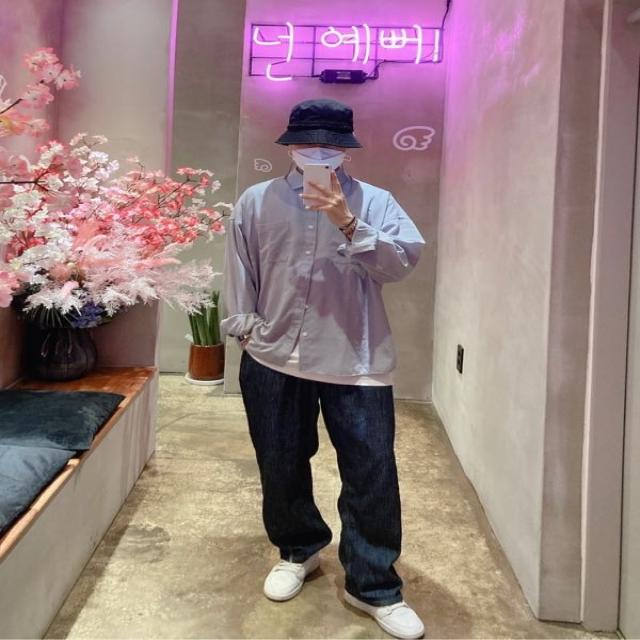denimpants: (244, 354, 412, 609)
shirt: (228, 169, 426, 376)
